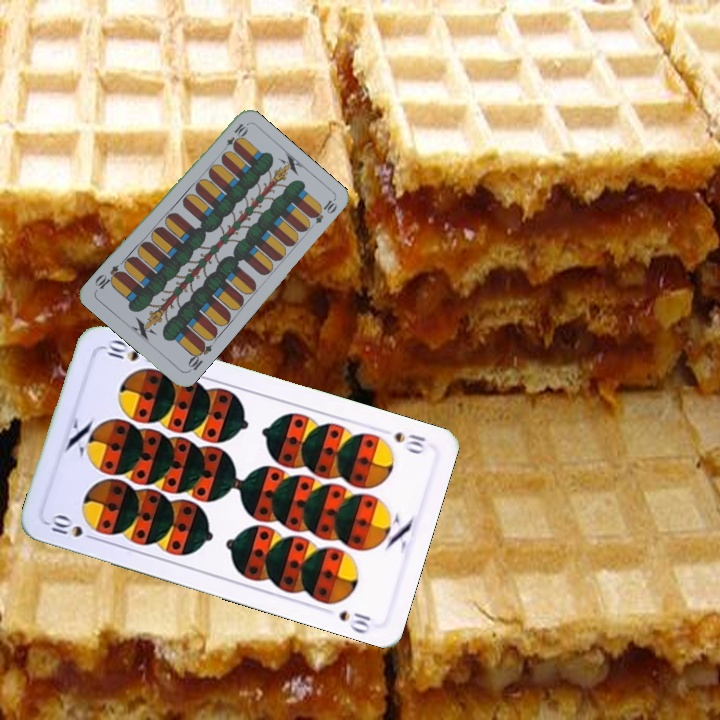E10: (183, 337, 215, 375), (218, 119, 250, 156)
S10: (43, 511, 101, 544), (391, 428, 428, 456)
